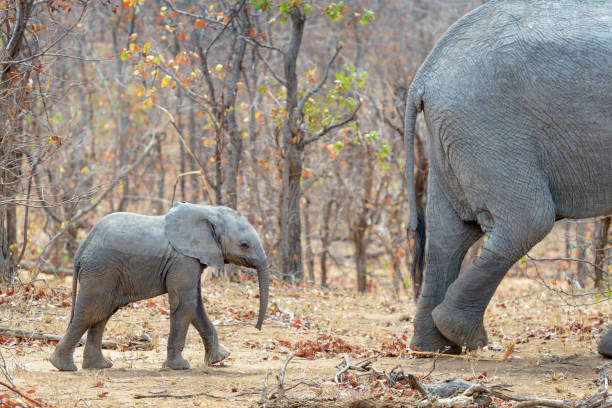africanelephant: (193, 196, 271, 304)
